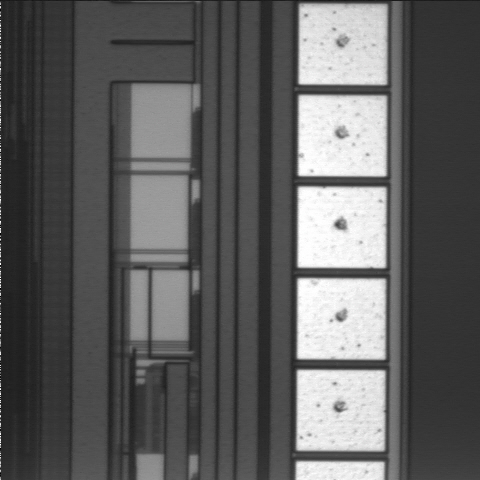pad: (298, 95, 387, 176), (297, 278, 386, 359), (299, 4, 387, 85), (298, 187, 386, 268), (297, 370, 385, 451)
